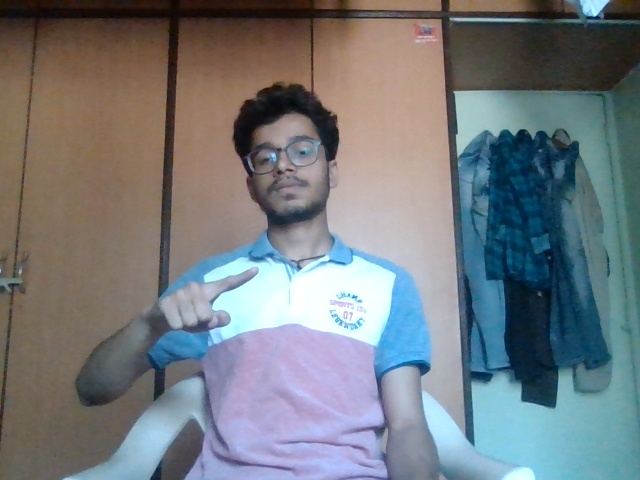you: (152, 261, 272, 347)
